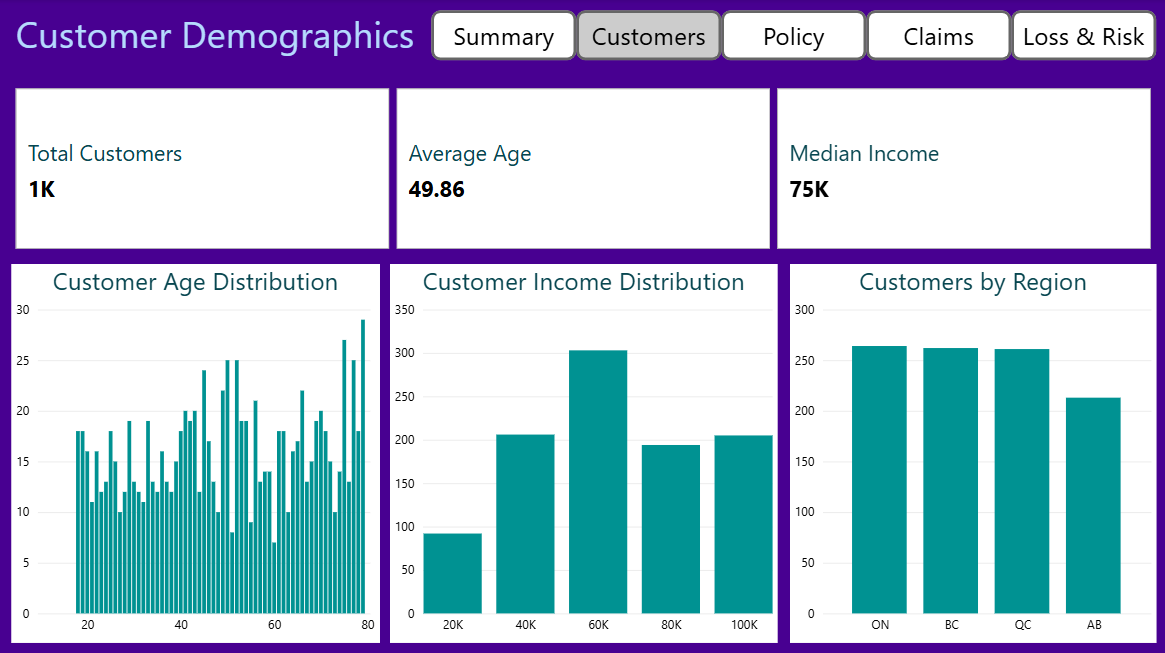

The dashboard page shown, as its layout file describes it:
{"tool":"powerbi","page":{"name":"Customer Demographics","canvas":[1280,720],"ordinal":1},"visuals":[{"type":"cardVisual","fields":{"Data":["Count(customers_clean.customer_id)","Avg(customers_clean.age)","Median(customers_clean.income)"]},"box":[12.3,93.3,1257,186.6],"z":0},{"type":"clusteredColumnChart","title":"Customer Age Distribution","fields":{"Category":["customers_clean.age"],"Y":["CountNonNull(customers_clean.customer_id (bins))"]},"box":[12.3,290.9,404.8,415.8],"z":1000},{"type":"clusteredColumnChart","title":"Customer Income Distribution","fields":{"Y":["CountNonNull(customers_clean.customer_id (bins))"],"Category":["customers_clean.income (bins)"]},"box":[428.1,290.9,425.4,415.8],"z":2000},{"type":"clusteredColumnChart","title":"Customers by Region","fields":{"Category":["customers_clean.region"],"Y":["Count(customers_clean.customer_id)"]},"box":[867.2,290.9,402.1,415.8],"z":3000},{"type":"textbox","title":"Customer Demographics","box":[12.3,11,517.3,82.3],"z":4000},{"type":"actionButton","title":"Loss & Risk","box":[1110.1,12.3,159.2,54.9],"z":4001},{"type":"actionButton","title":"Loss & Risk","box":[950.9,12.3,159.2,54.9],"z":4002},{"type":"actionButton","title":"Loss & Risk","box":[791.8,12.3,159.2,54.9],"z":4003},{"type":"actionButton","title":"Loss & Risk","box":[632.6,12.3,159.2,54.9],"z":4004},{"type":"actionButton","title":"Loss & Risk","box":[473.4,12.3,159.2,54.9],"z":4005}]}

Visuals, with their boxes in screenshot pixels (x1, y1, x2, y2), scaled from the page's 1280x720 canvas onto the 1165x653 screenshot:
cardVisual - Count(customers_clean.customer_id) x Avg(customers_clean.age): l=11, t=85, r=1155, b=254
"Customer Age Distribution" clusteredColumnChart: l=11, t=264, r=380, b=641
"Customer Income Distribution" clusteredColumnChart: l=390, t=264, r=777, b=641
"Customers by Region" clusteredColumnChart: l=789, t=264, r=1155, b=641
"Customer Demographics" textbox: l=11, t=10, r=482, b=85
"Loss & Risk" actionButton: l=1010, t=11, r=1155, b=61
"Loss & Risk" actionButton: l=865, t=11, r=1010, b=61
"Loss & Risk" actionButton: l=721, t=11, r=866, b=61
"Loss & Risk" actionButton: l=576, t=11, r=721, b=61
"Loss & Risk" actionButton: l=431, t=11, r=576, b=61
